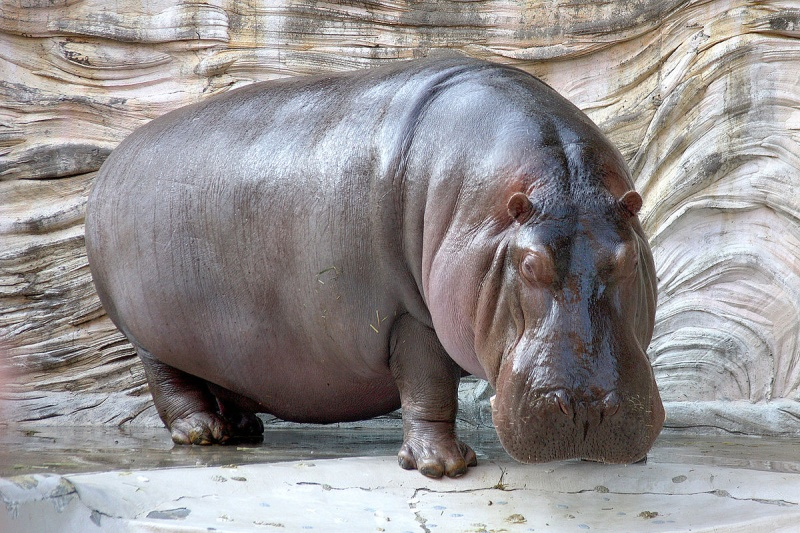hipopotamo: (26, 18, 735, 527)
